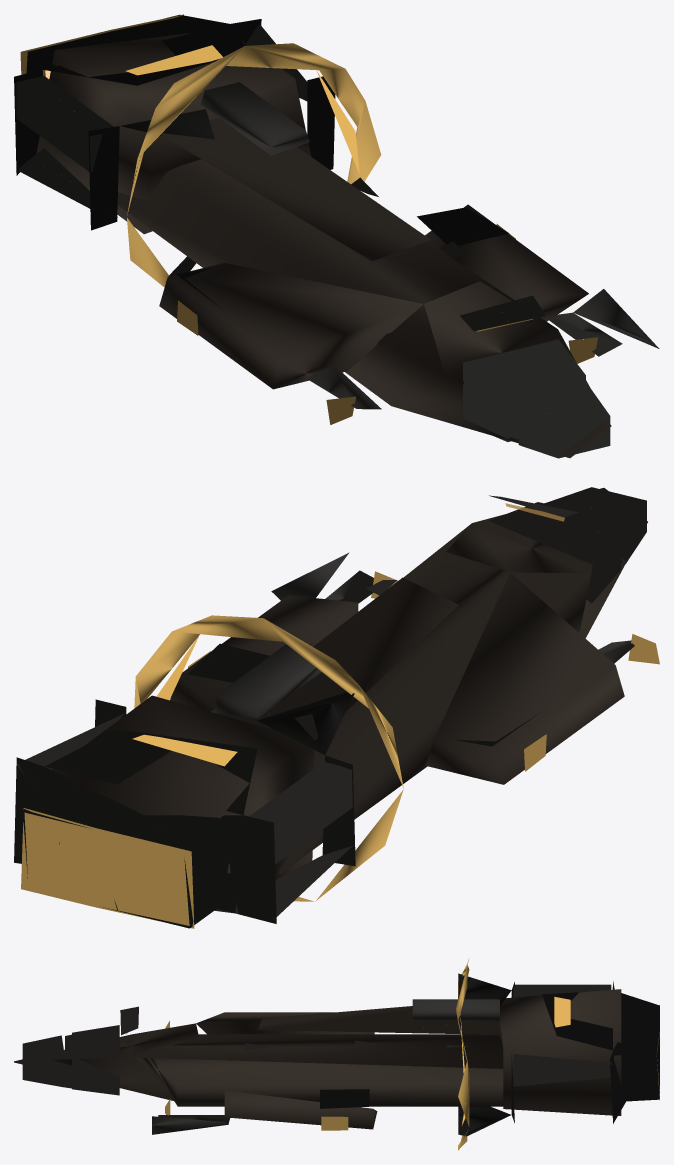
File: goniec-wybudzeni-hawk-90-lod2.glb
3 renders of one model, top to bottom at view 1: azimuth 30°, elevation 25°; view 2: azimuth 150°, elevation 25°; view 3: azimuth 270°, elevation 25°, orthographic. The views are drawn at different scales.
Bounding box in the file's own units: 5.31 × 4.06 × 13.53.
